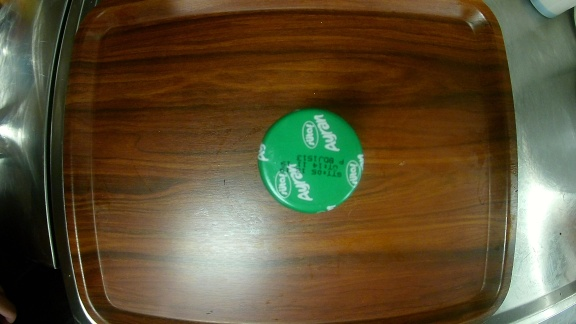ayran: (250, 105, 370, 217)
